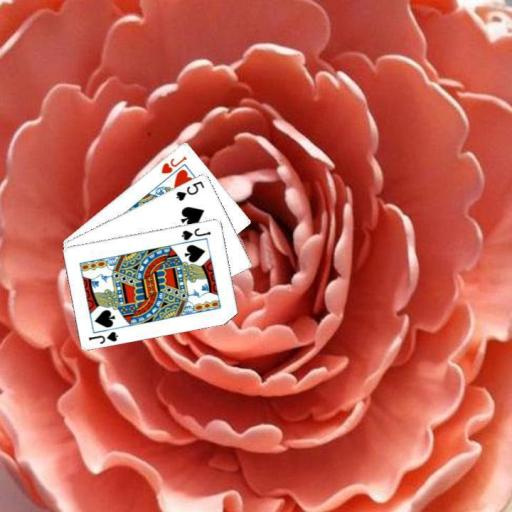card-corner: (173, 177, 205, 202), (158, 153, 188, 175), (178, 224, 212, 242), (86, 328, 120, 345)
